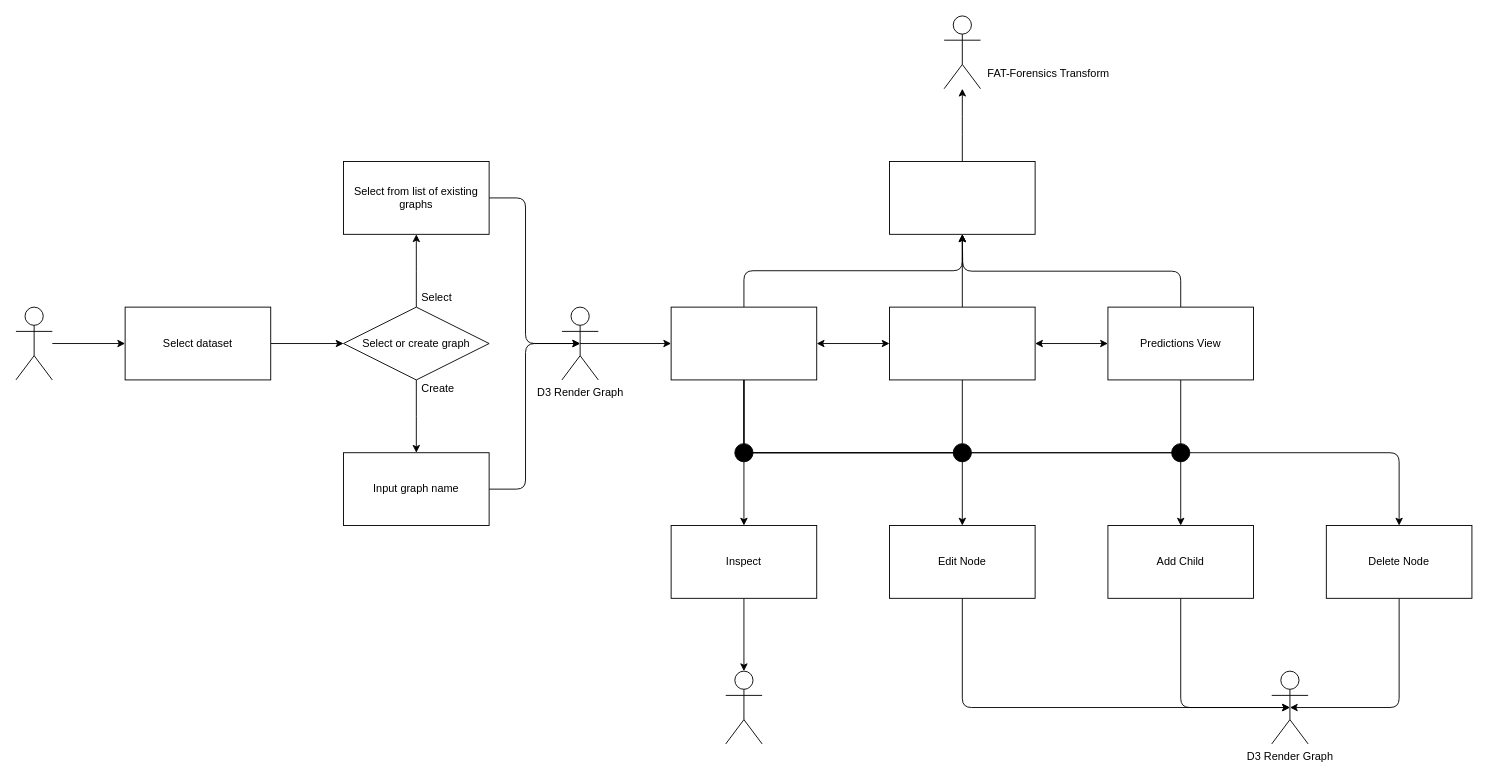
This 1488x779 diagram has some shape labels left out. Each missing label, with the centre of its shape:
Data View: the point at 743,343
Execute Functions: the point at 962,197
FAT Forensics Measure: the point at 743,707
Model View: the point at 962,343
User: the point at 33,343
